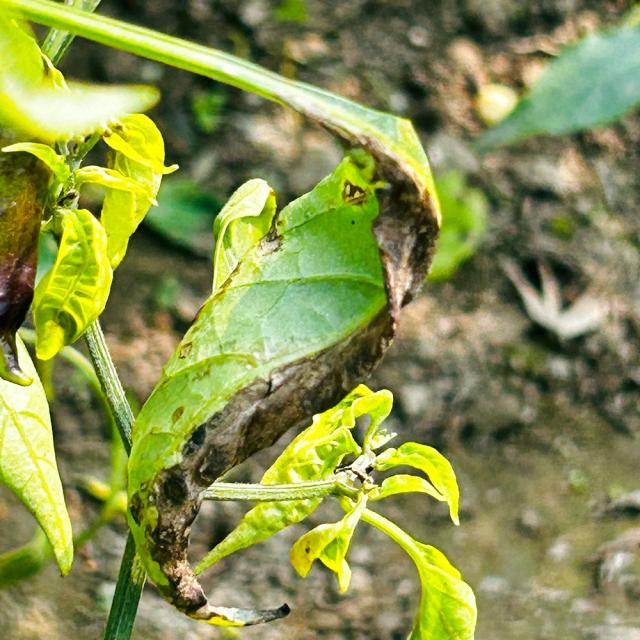Chilli_Leaf_Curl: (1, 2, 476, 638), (122, 147, 393, 615), (190, 382, 478, 638), (1, 110, 179, 362), (472, 11, 638, 154), (1, 1, 160, 146), (0, 332, 75, 578), (29, 206, 114, 362)
